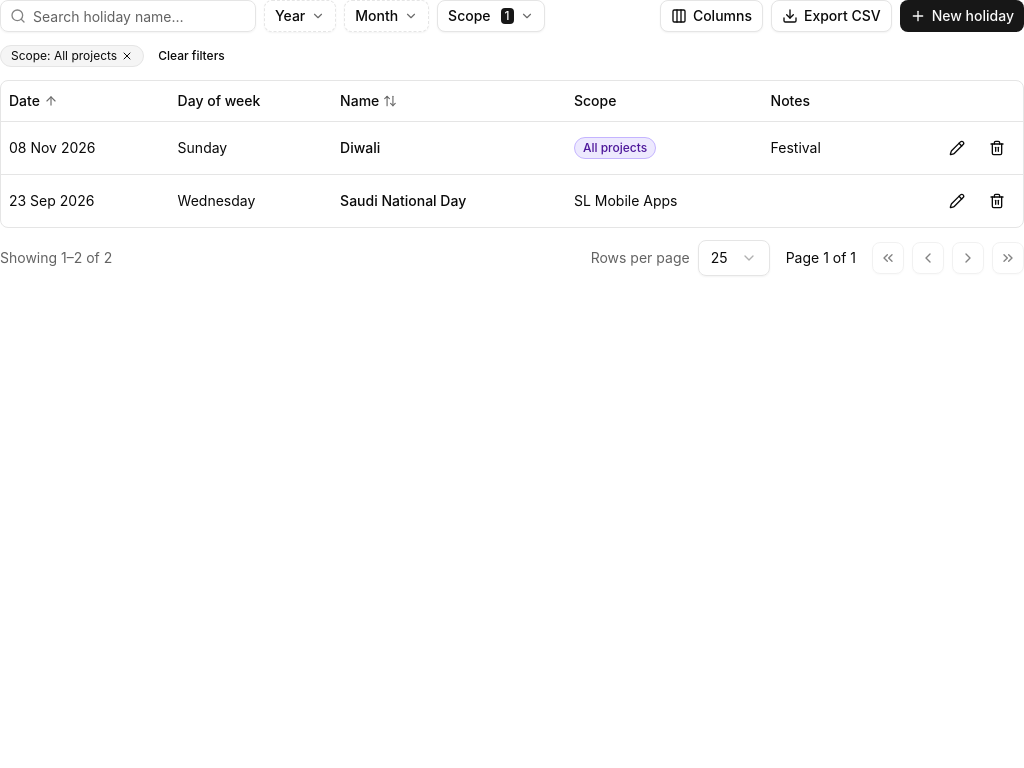
Scenario: HolidaysTable › edit opens the form pre-filled
The width and height of the screenshot is (1024, 768).
Click the button named "Edit Saudi National Day (23 Sep 2026)" at (957,200), box [939,182,975,218]
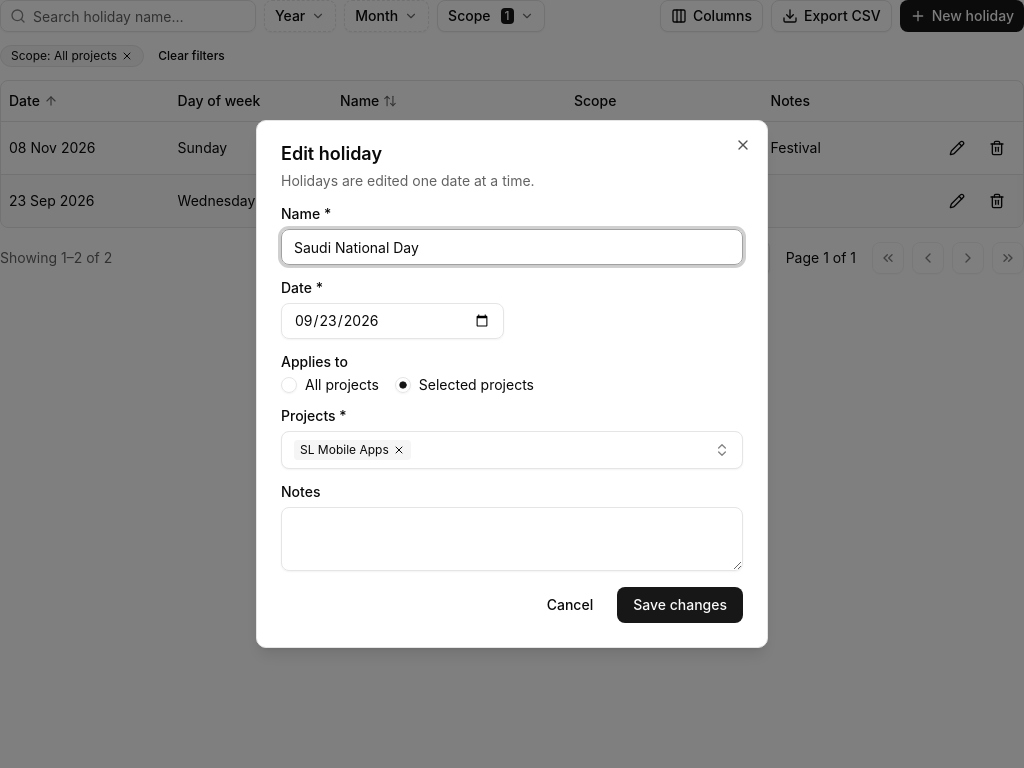
Expected: the field labelled "Name *" holds "Saudi National Day", [281,229,743,265]
Expected: the date field labelled "Date *" holds "2026-09-23", [281,303,504,339]
Expected: the dropdown named "Projects" reads "SL Mobile Apps", [281,431,743,469]
